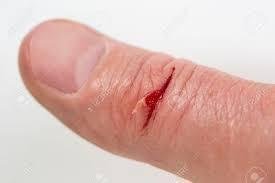Fire: (143, 67, 176, 128)
